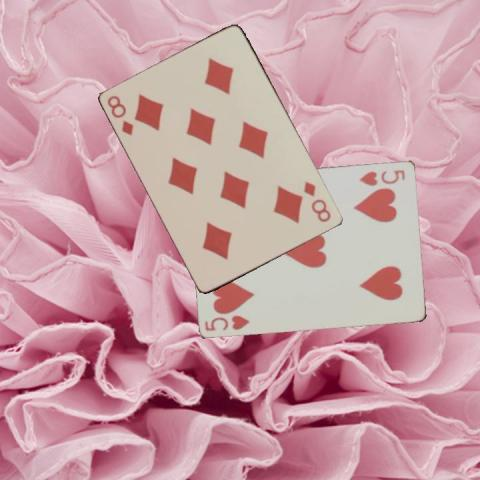5h: (202, 311, 251, 332), (356, 167, 407, 187)
8d: (302, 178, 334, 224), (105, 92, 135, 138)
